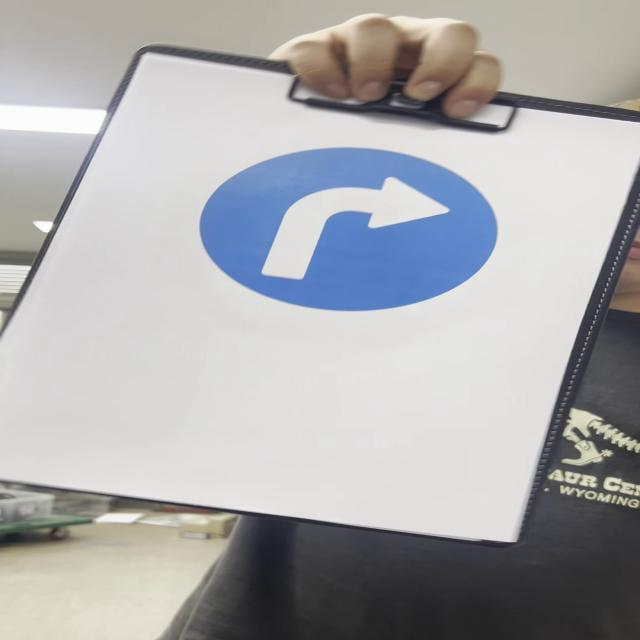right: (191, 144, 494, 314)
